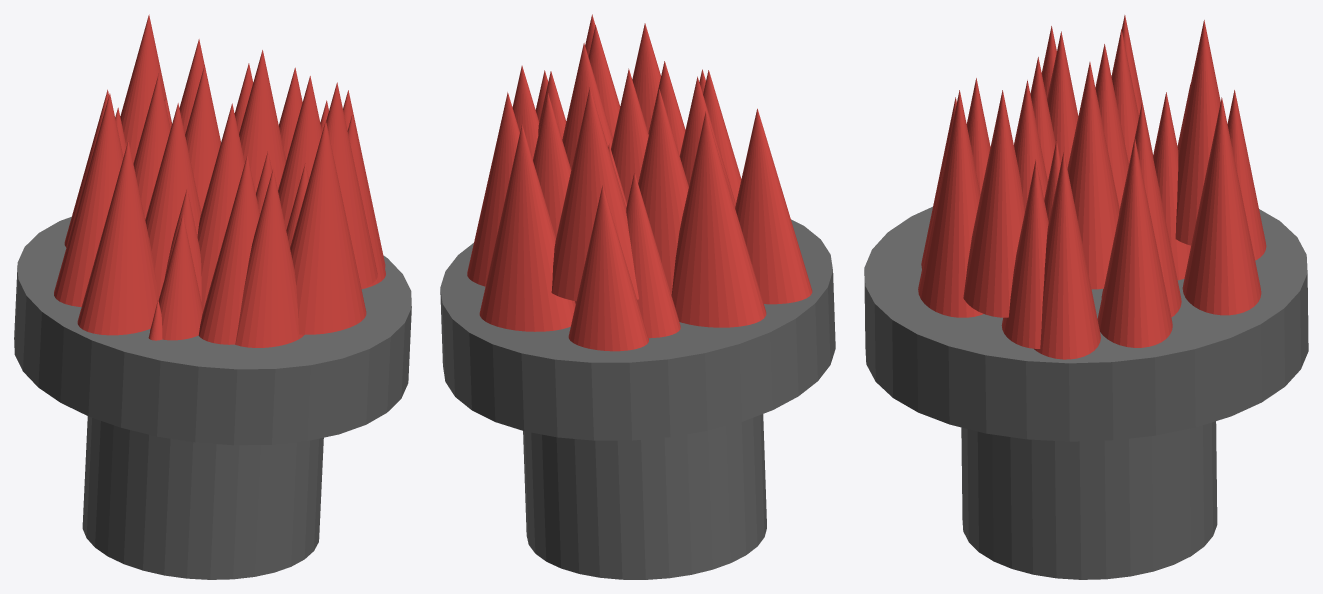
Rendered from torch.fbx.
3 renders of one model, left to right at view 1: azimuth 30°, elevation 25°; view 2: azimuth 150°, elevation 25°; view 3: azimuth 270°, elevation 25°, orthographic. The views are drawn at different scales.
Parts seen in each view (by area): view 1: Cylinder.001, Cone.035, Cone.026, Cone.003, Cone.022, Cone.018, Cone.004, Cone.033, Cone.036, Cone.027, Cone.031, Cone.029 (+11 smaller); view 2: Cylinder.001, Cone.022, Cone.021, Cone.026, Cone.029, Cone.037, Cone.034, Cone.017, Cone.007, Cone.016, Cone.028, Cone.027 (+7 smaller); view 3: Cylinder.001, Cone.021, Cone.007, Cone.036, Cone.035, Cone, Cone.027, Cone.029, Cone.006, Cone.016, Cone.024, Cone.004 (+9 smaller).
Boxes of the visible parts, bbox=[...] form: Cylinder.001: bbox=[14, 217, 411, 579]; Cone.035: bbox=[290, 120, 366, 334]; Cone.026: bbox=[77, 140, 157, 335]; Cone.003: bbox=[235, 169, 304, 347]; Cone.022: bbox=[54, 93, 123, 306]; Cone.018: bbox=[198, 154, 259, 344]; Cone.004: bbox=[145, 103, 201, 300]; Cone.033: bbox=[197, 103, 244, 310]; Cone.036: bbox=[326, 82, 377, 288]; Cone.027: bbox=[239, 50, 286, 193]; Cone.031: bbox=[150, 214, 203, 340]; Cone.029: bbox=[120, 14, 171, 163]; Cylinder.001: bbox=[440, 219, 835, 579]; Cone.022: bbox=[671, 111, 766, 327]; Cone.021: bbox=[479, 124, 575, 331]; Cone.026: bbox=[735, 108, 812, 304]; Cone.029: bbox=[551, 87, 638, 301]; Cone.037: bbox=[568, 185, 648, 351]; Cone.034: bbox=[638, 89, 688, 294]; Cone.017: bbox=[626, 172, 680, 338]; Cone.007: bbox=[467, 92, 519, 286]; Cone.016: bbox=[533, 93, 571, 237]; Cone.028: bbox=[611, 68, 648, 203]; Cone.027: bbox=[562, 43, 612, 169]; Cylinder.001: bbox=[864, 206, 1308, 579]; Cone.021: bbox=[1182, 97, 1261, 315]; Cone.007: bbox=[1097, 138, 1172, 347]; Cone.036: bbox=[963, 90, 1024, 317]; Cone.035: bbox=[918, 90, 983, 317]; Cone: bbox=[1034, 151, 1100, 359]; Cone.027: bbox=[1067, 62, 1119, 289]; Cone.029: bbox=[1175, 20, 1220, 245]; Cone.006: bbox=[1001, 159, 1048, 348]; Cone.016: bbox=[1101, 103, 1181, 317]; Cone.024: bbox=[1153, 92, 1190, 280]; Cone.004: bbox=[1047, 31, 1078, 168].
Size of the model in its own units: 235 by 325 by 257.
